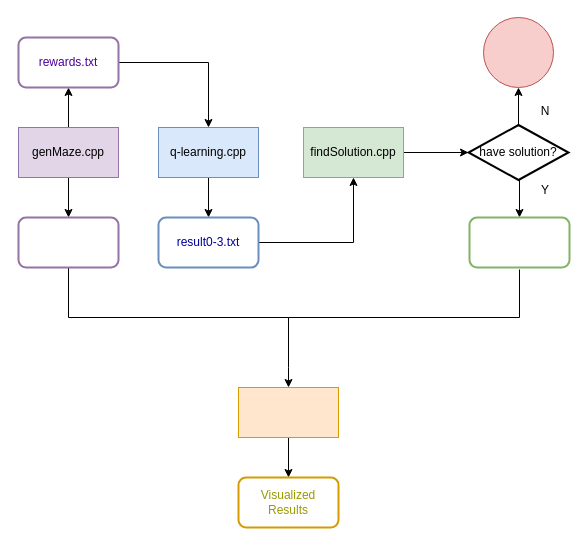
This 587x546 diagram has some shape labels left out. Here are the shapes that lost their labels. From the top down, the box of each, then its label:
(482, 16, 554, 88): terminated
(17, 216, 119, 268): maze.txt
(468, 216, 570, 268): solution.txt
(238, 386, 338, 438): draw.py
